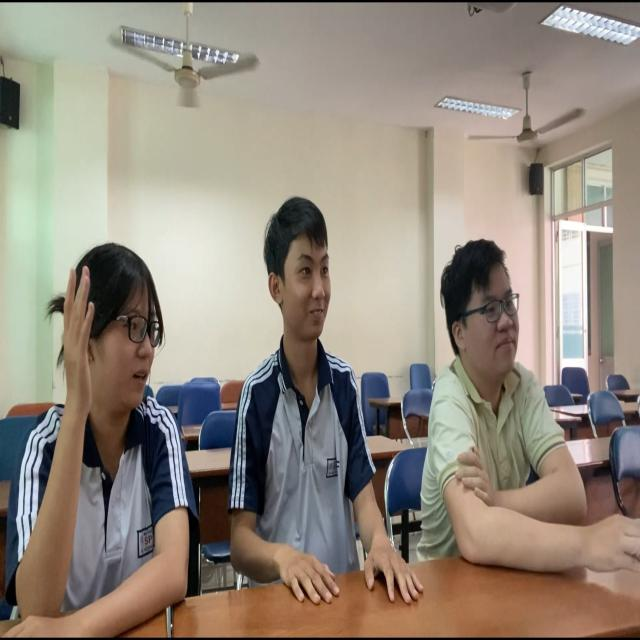raise_hand: (2, 231, 195, 640)
